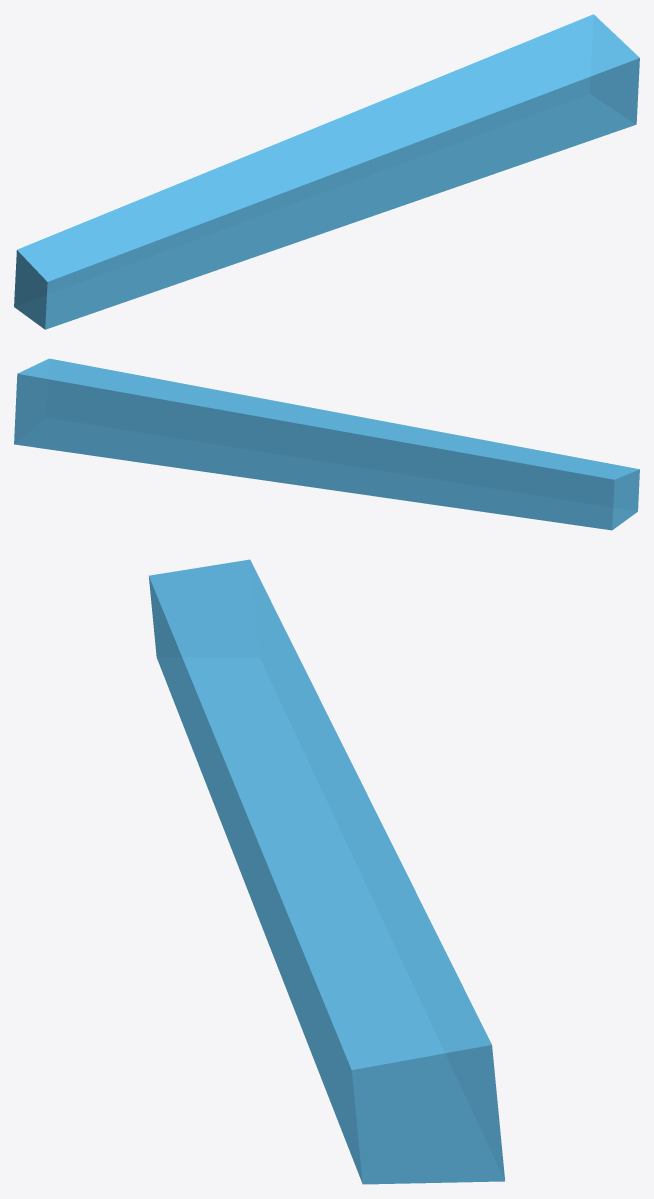
Rendered from Event_421115418_HErechit_60.fbx.
The picture shows the model from 3 angles, top to bottom: view 1: azimuth 30°, elevation 25°; view 2: azimuth 150°, elevation 25°; view 3: azimuth 270°, elevation 25°; orthographic projection. The views are drawn at different scales.
Visible parts, largest first — view 1: Model; view 2: Model; view 3: Model.
Part boxes in pixels (x1,y1,x2,y2): Model: [14, 14, 639, 329]; Model: [14, 358, 639, 530]; Model: [148, 559, 504, 1184].
Bounding box in the file's own units: 4.03 × 0.4878 × 1.15.
